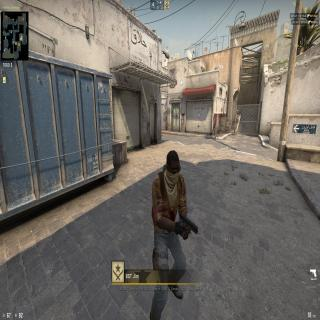T-Head: (164, 148, 181, 186)
